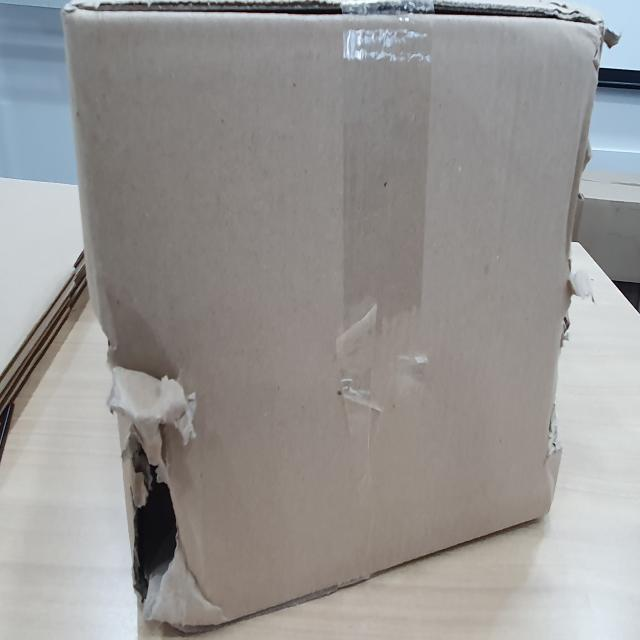hole: (108, 385, 186, 629)
